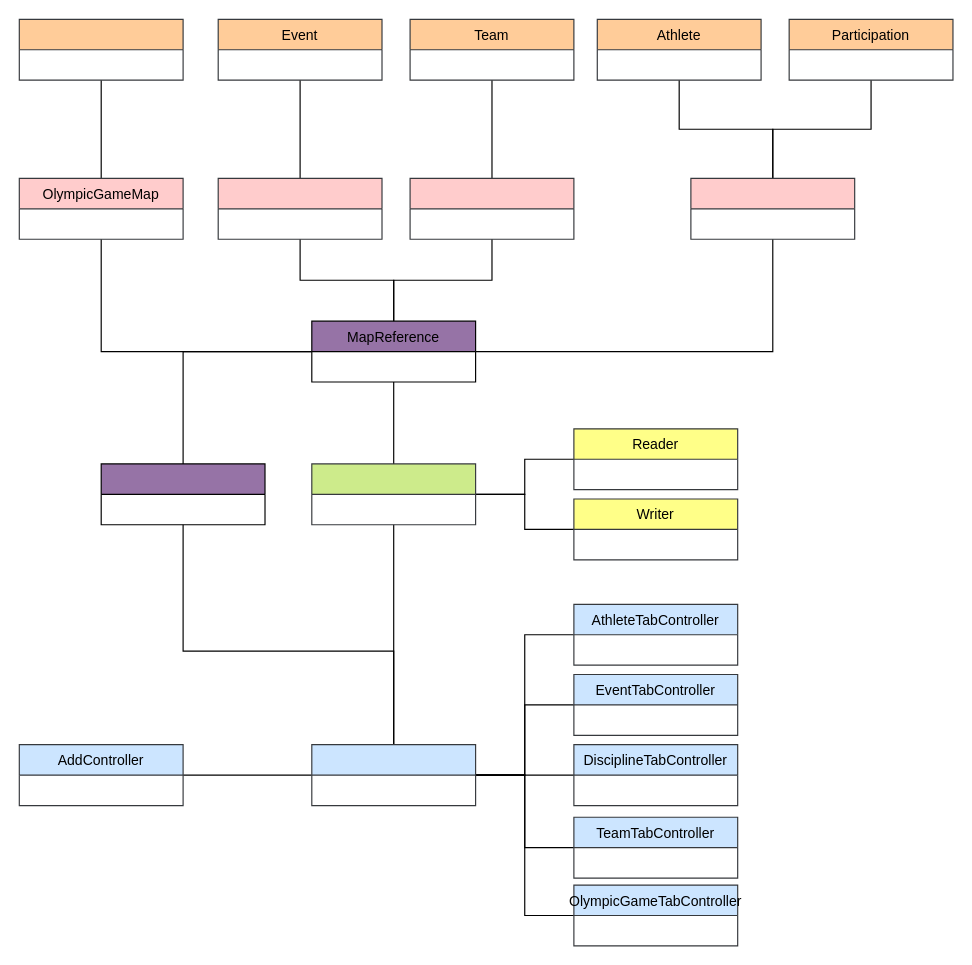
The diagram is 972 pixels wide and 965 high, and some of its shapes have lost their labels. Each missing label, with the centre of its shape:
AthletMap: (x=772, y=208)
DatabaseUtility: (x=182, y=494)
EventMap: (x=299, y=208)
Main: (x=393, y=494)
MainController: (x=393, y=775)
OlympicGame: (x=100, y=49)
TeamMap: (x=491, y=208)
